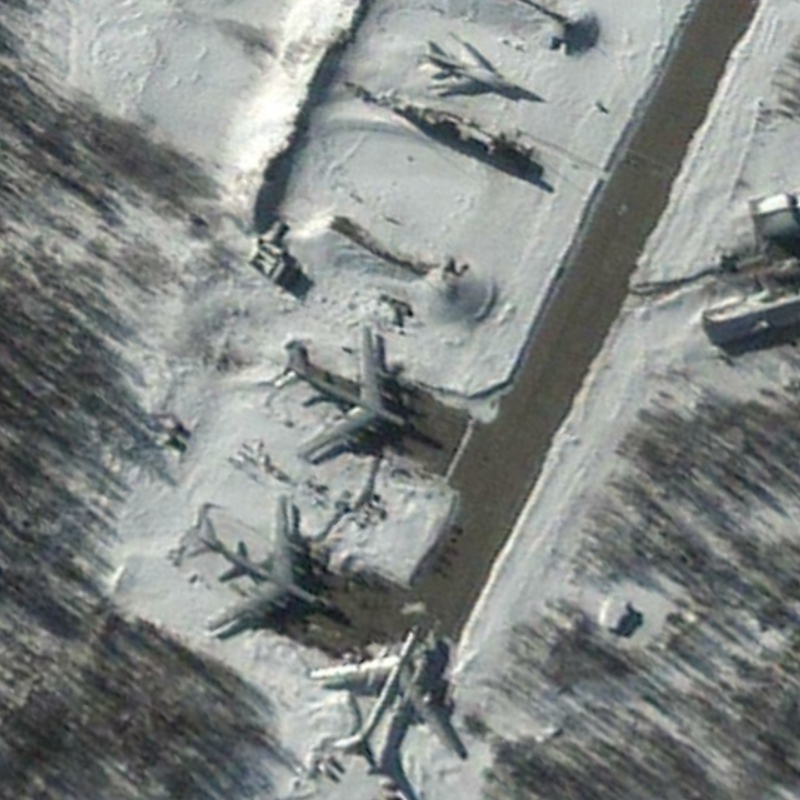A12: (412, 33, 549, 104)
A17: (307, 620, 469, 773), (183, 493, 333, 633), (274, 325, 416, 462)
